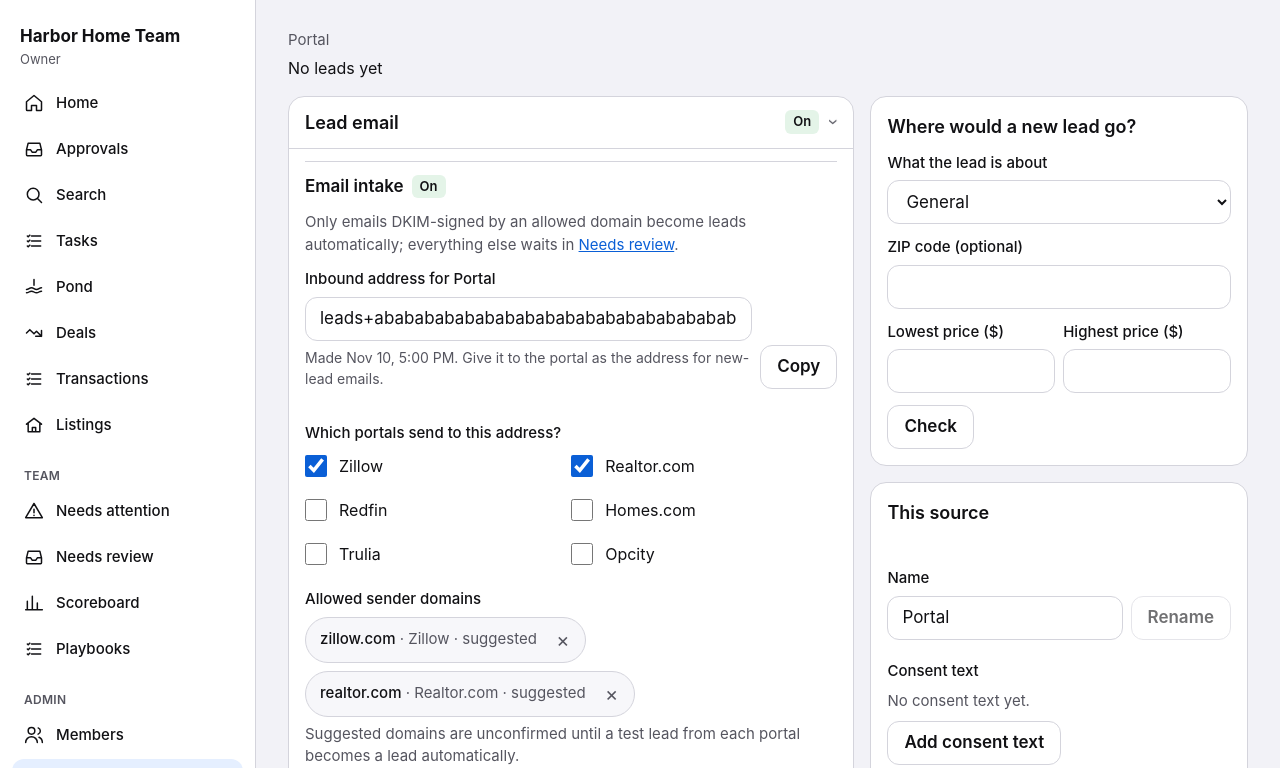
Test: Email intake on a lead source page › on: the address is read-only; Copy writes it to the clipboard and announces "Copied"
This screenshot has width=1280, height=768.
(page scrolled)
Click the button with aria-label "Copy the inbound address for Portal": [799, 366] box top-left (760, 344), bottom-right (837, 388)
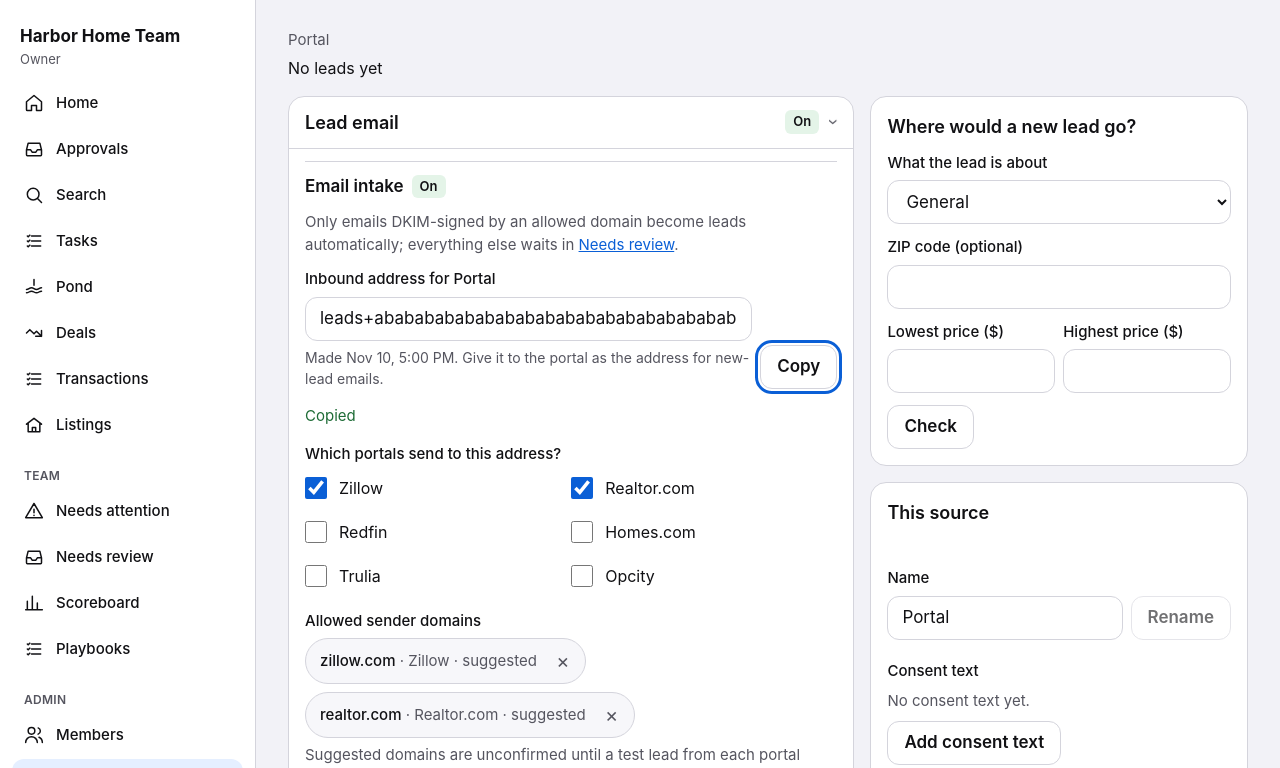
Now the message "Copied" is shown, box top-left (305, 406), bottom-right (356, 424)
